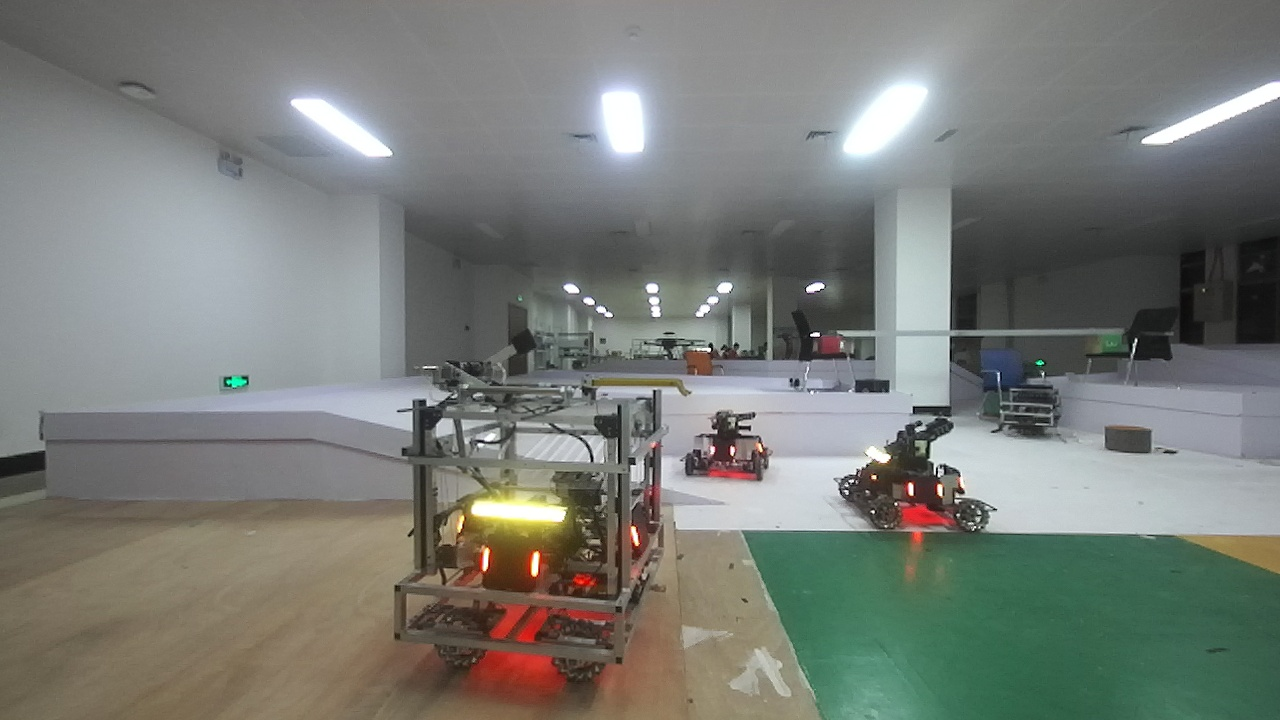car: (381, 360, 669, 683), (819, 412, 993, 535), (683, 404, 785, 479)
